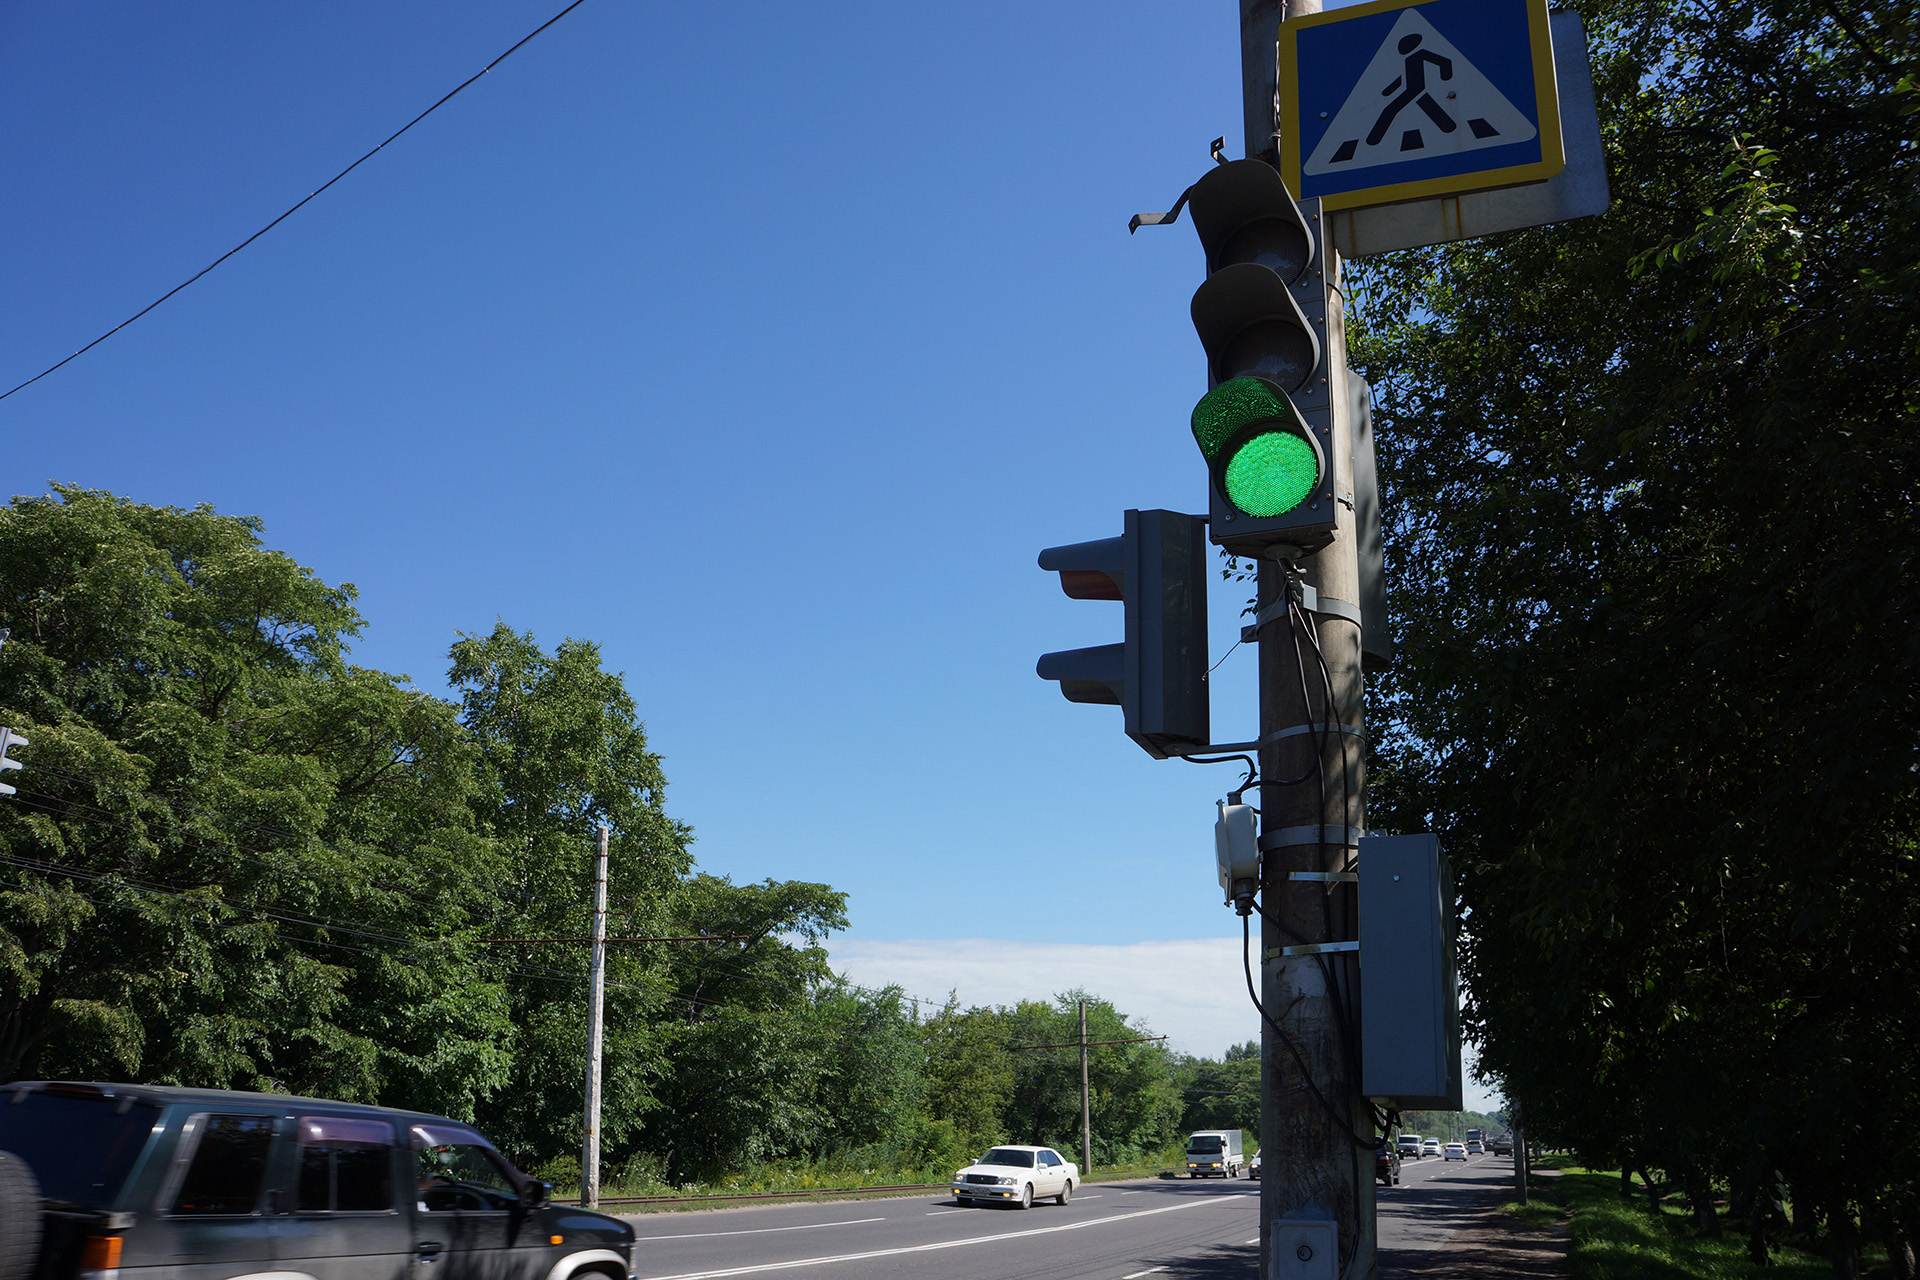tl: (1181, 171, 1351, 541), (1029, 504, 1229, 757)
